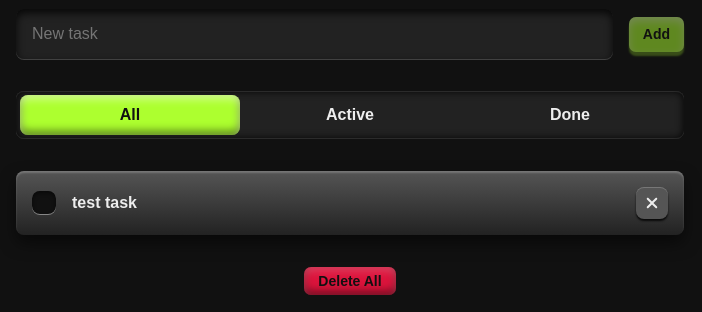
Test: App › lets user delete task
expect the text "test task" is shown: met, box [72,194,137,211]
Click the button named "delete" at [652, 203], box [636,187,668,219]
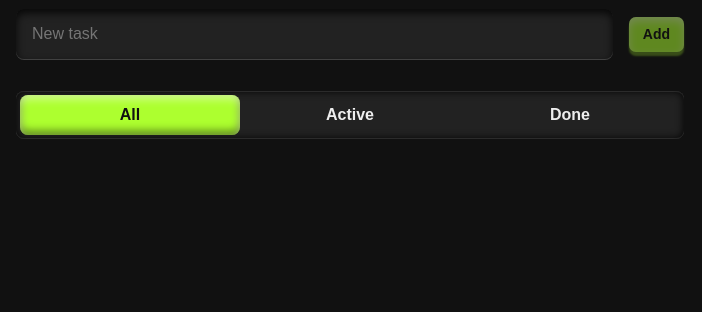
expect the text "test task" is gone: met
